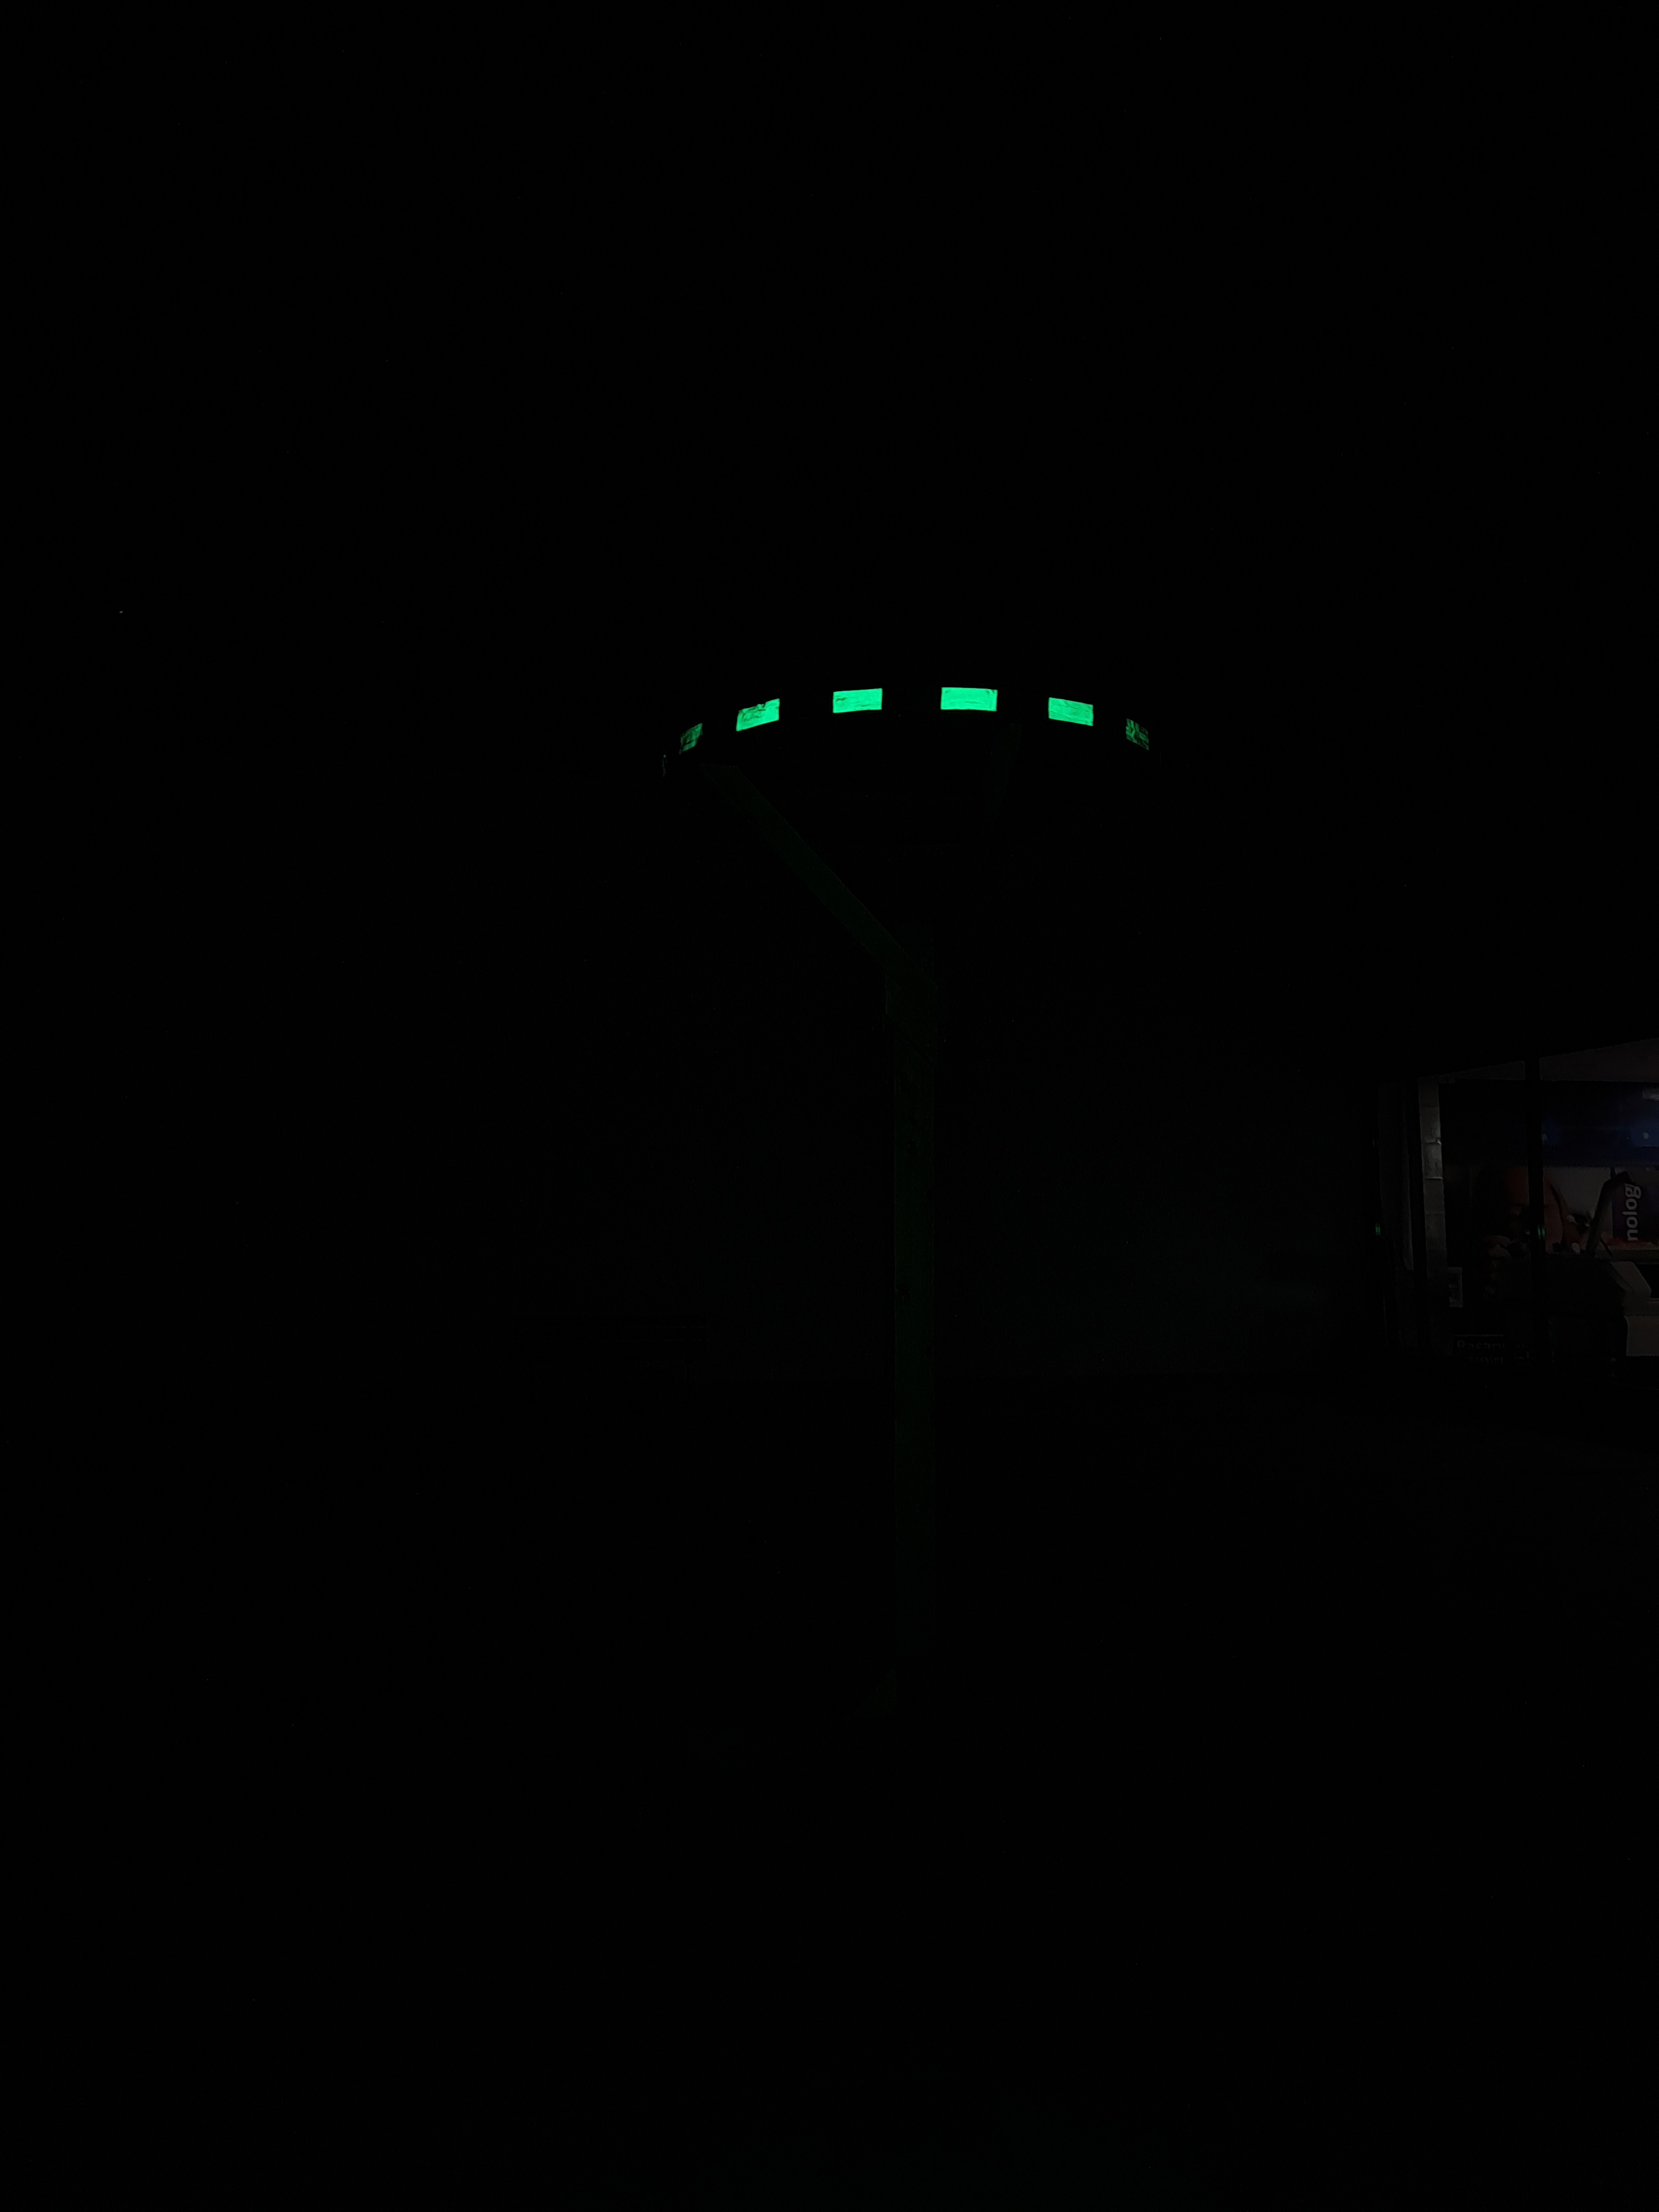hoop: (674, 671, 1159, 765)
